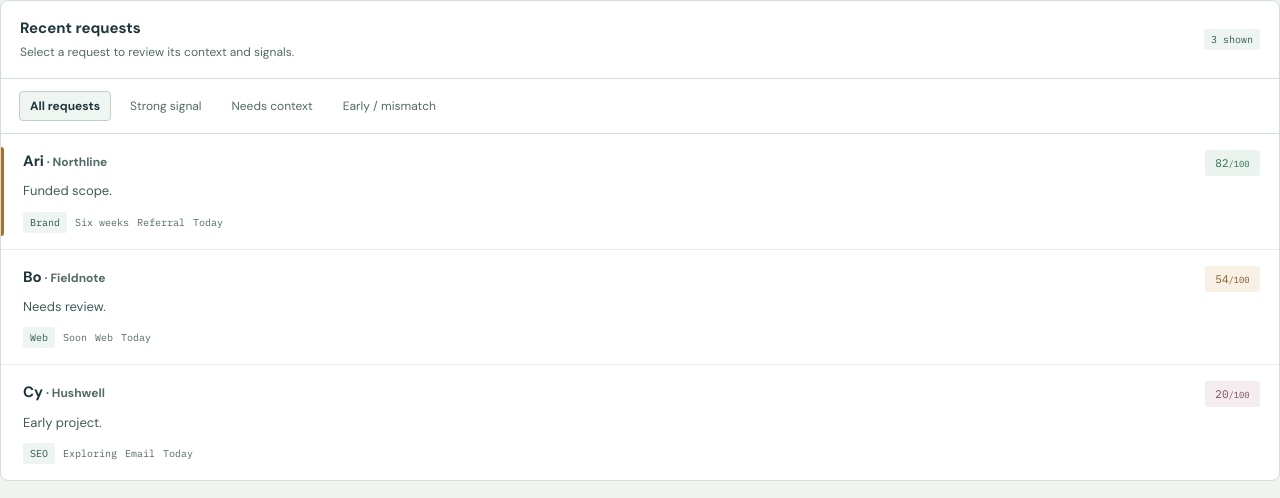
lead inbox › filters to one score band with pressed state
Click the button "Strong signal".
click(166, 106)  # box [119, 91, 212, 121]
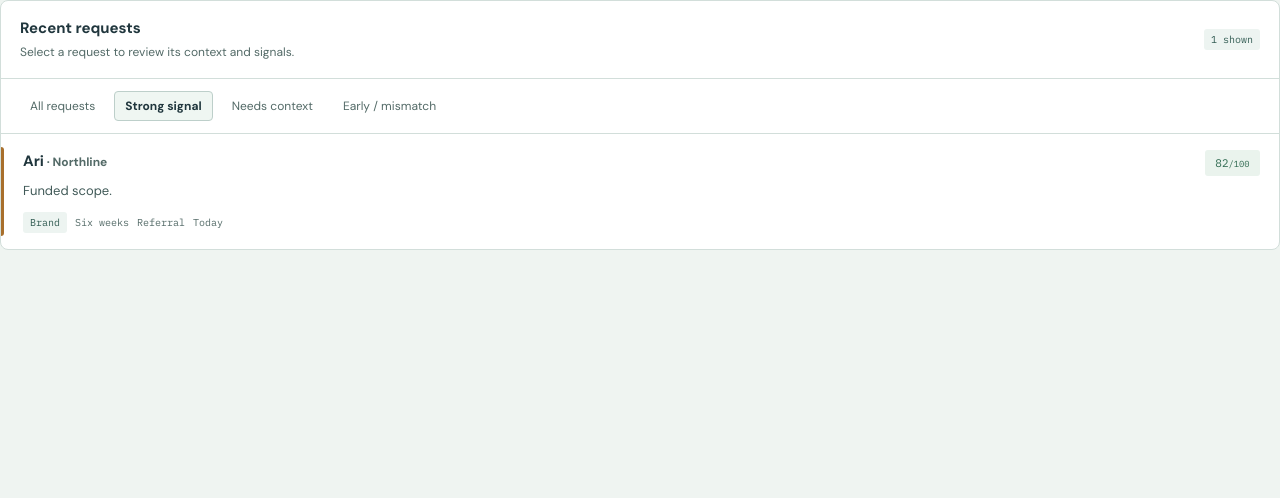
Now the text "1 shown" is shown, box [1204, 29, 1260, 50]
